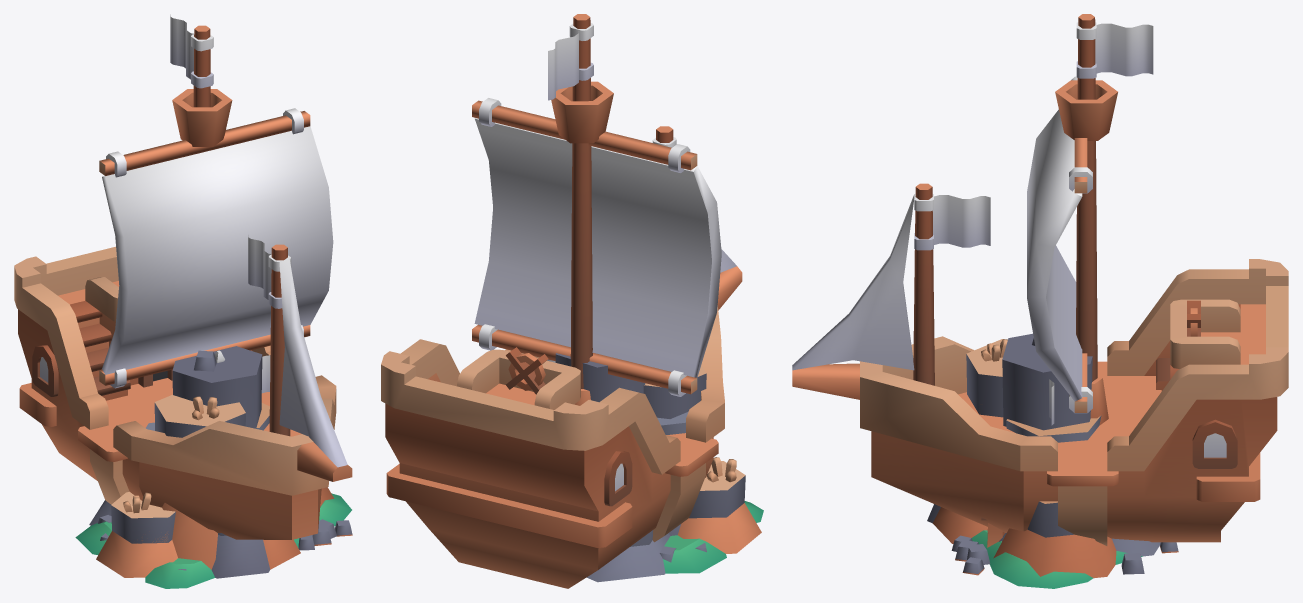
The model's file is kit.glb.
3 views of the same model, side by side, from view 1: azimuth 30°, elevation 25°; view 2: azimuth 150°, elevation 25°; view 3: azimuth 270°, elevation 25° (orthographic). The views are drawn at different scales.
Parts seen in each view (by area): view 1: ship-small, sail-a, rocks-sand-a, rocks-b, rocks-a, patch-grass, flag-b, flag-a; view 2: ship-small, sail-a, rocks-b, rocks-sand-a, rocks-a, flag-b, patch-grass; view 3: ship-small, sail-a, rocks-sand-a, rocks-b, rocks-a, flag-b, flag-a, patch-grass.
Part boxes in pixels (bbox=[...]): ship-small: bbox=[14, 25, 352, 539]; sail-a: bbox=[99, 108, 333, 388]; rocks-sand-a: bbox=[96, 394, 352, 577]; rocks-b: bbox=[89, 346, 336, 578]; rocks-a: bbox=[98, 403, 352, 544]; patch-grass: bbox=[75, 493, 351, 588]; flag-b: bbox=[170, 14, 213, 88]; flag-a: bbox=[248, 235, 291, 308]; ship-small: bbox=[381, 14, 742, 588]; sail-a: bbox=[472, 98, 721, 396]; rocks-b: bbox=[555, 353, 706, 582]; rocks-sand-a: bbox=[644, 365, 761, 553]; rocks-a: bbox=[643, 373, 745, 562]; flag-b: bbox=[548, 23, 593, 100]; patch-grass: bbox=[663, 501, 763, 573]; ship-small: bbox=[792, 14, 1288, 545]; sail-a: bbox=[1027, 76, 1092, 413]; rocks-sand-a: bbox=[932, 339, 1178, 578]; rocks-b: bbox=[927, 333, 1160, 574]; rocks-a: bbox=[955, 354, 1178, 573]; flag-b: bbox=[1076, 22, 1153, 78]; flag-a: bbox=[914, 193, 990, 250]; patch-grass: bbox=[971, 530, 1142, 588].
Size of the model in its own units: 5.33 by 10.01 by 8.8.
22 materials, 3 textured.
